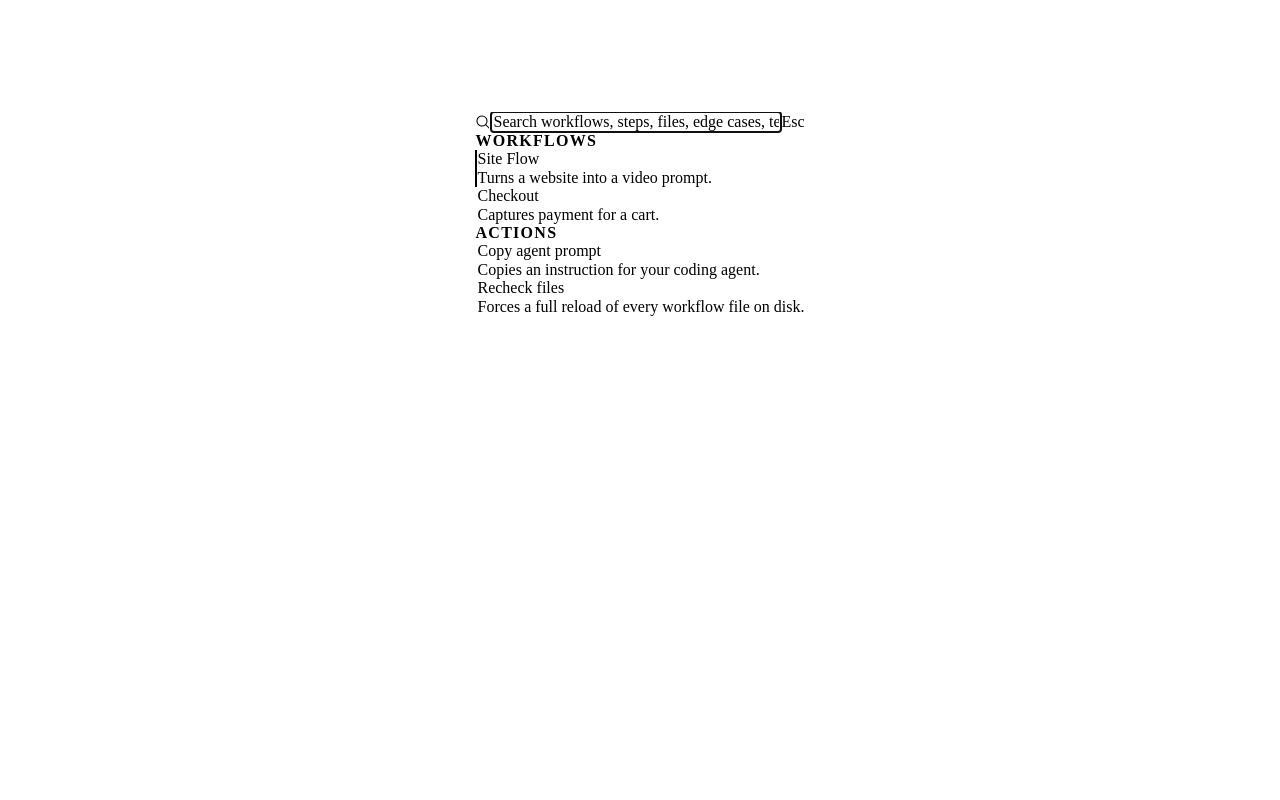
Scenario: CommandPalette › shows an honest empty message when nothing matches
Type "xyzzy-not-present" into the dropdown.
click(636, 122); type("xyzzy-not-present")  # box [492,112,781,132]
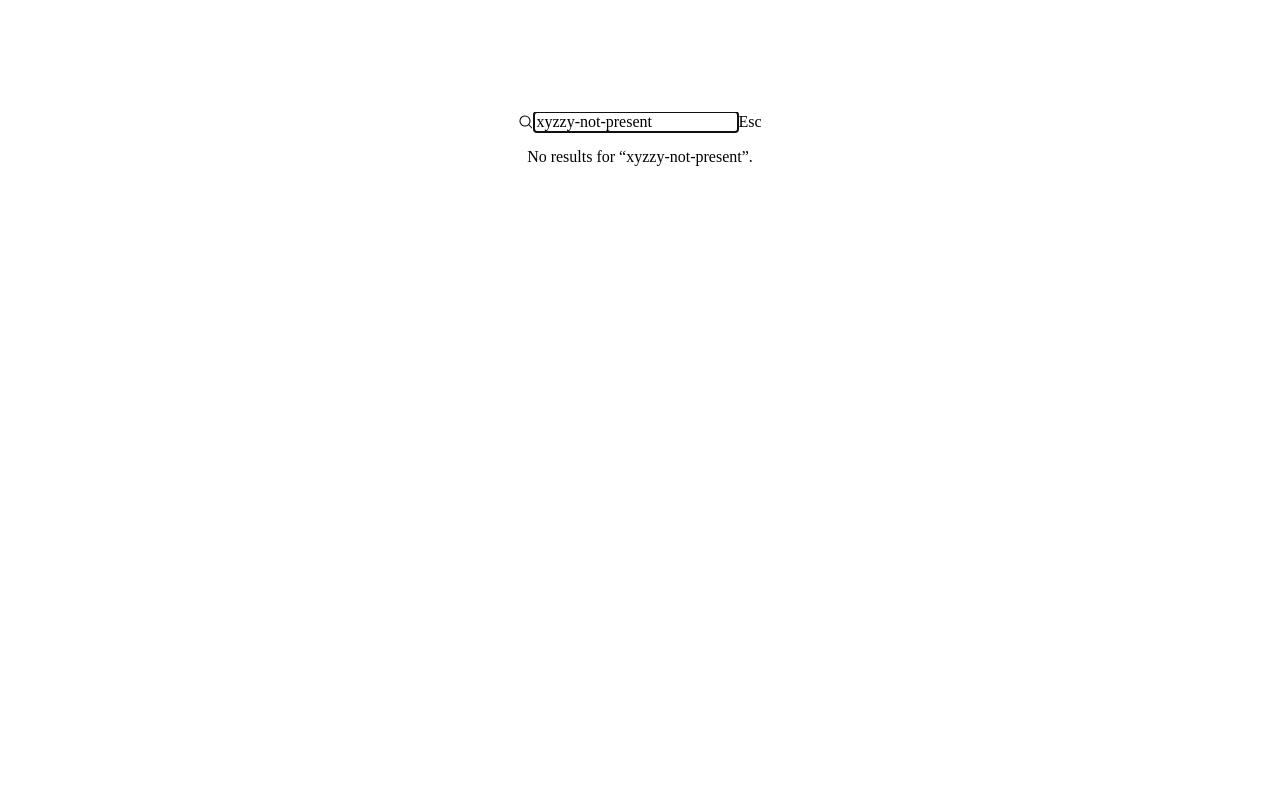
Result: the message reads "No results for “xyzzy-not-present”." at [518,148,762,166]
